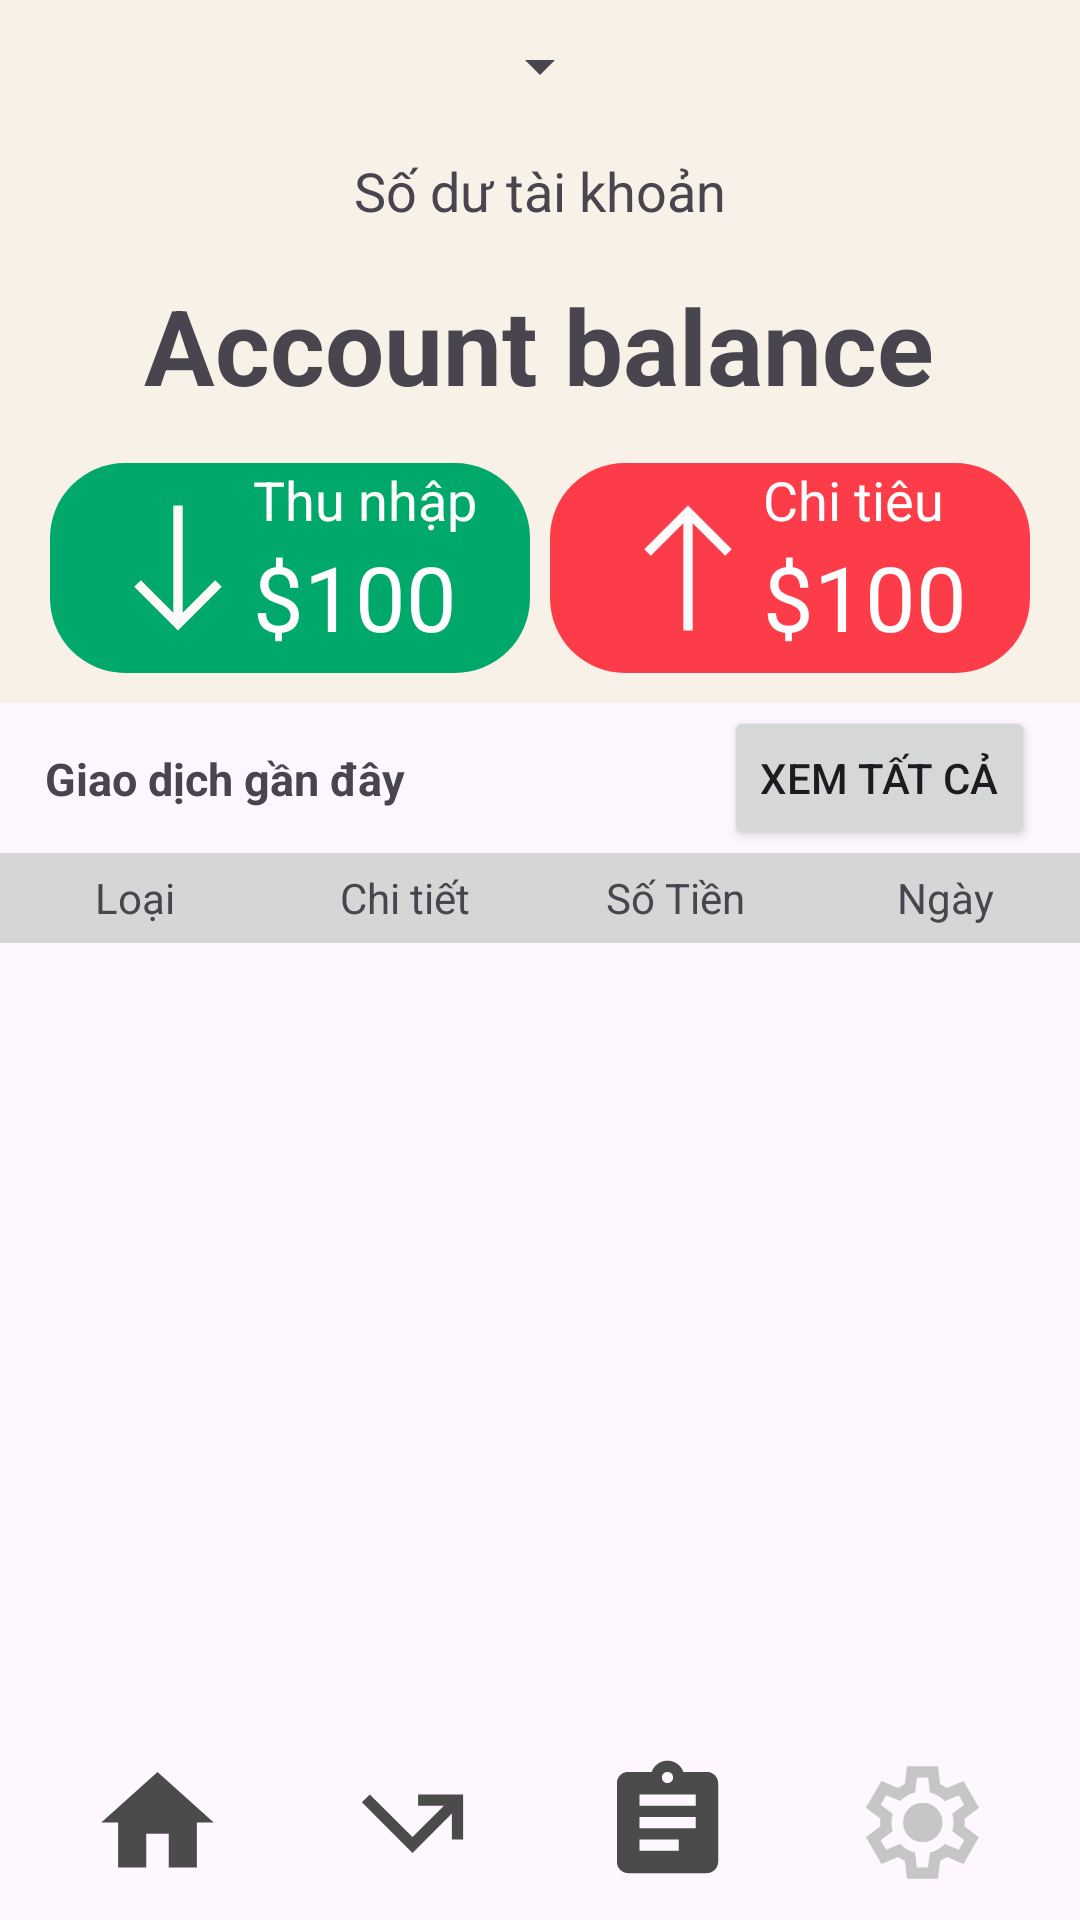

Screen size 1080*1920. Icon name, then its center in pixels as point (x, y):
arrow north: point (688, 568)
arrow south: point (178, 568)
assignment: point (668, 1817)
call missed outgoing: point (412, 1823)
home: point (157, 1820)
setting: point (922, 1822)
